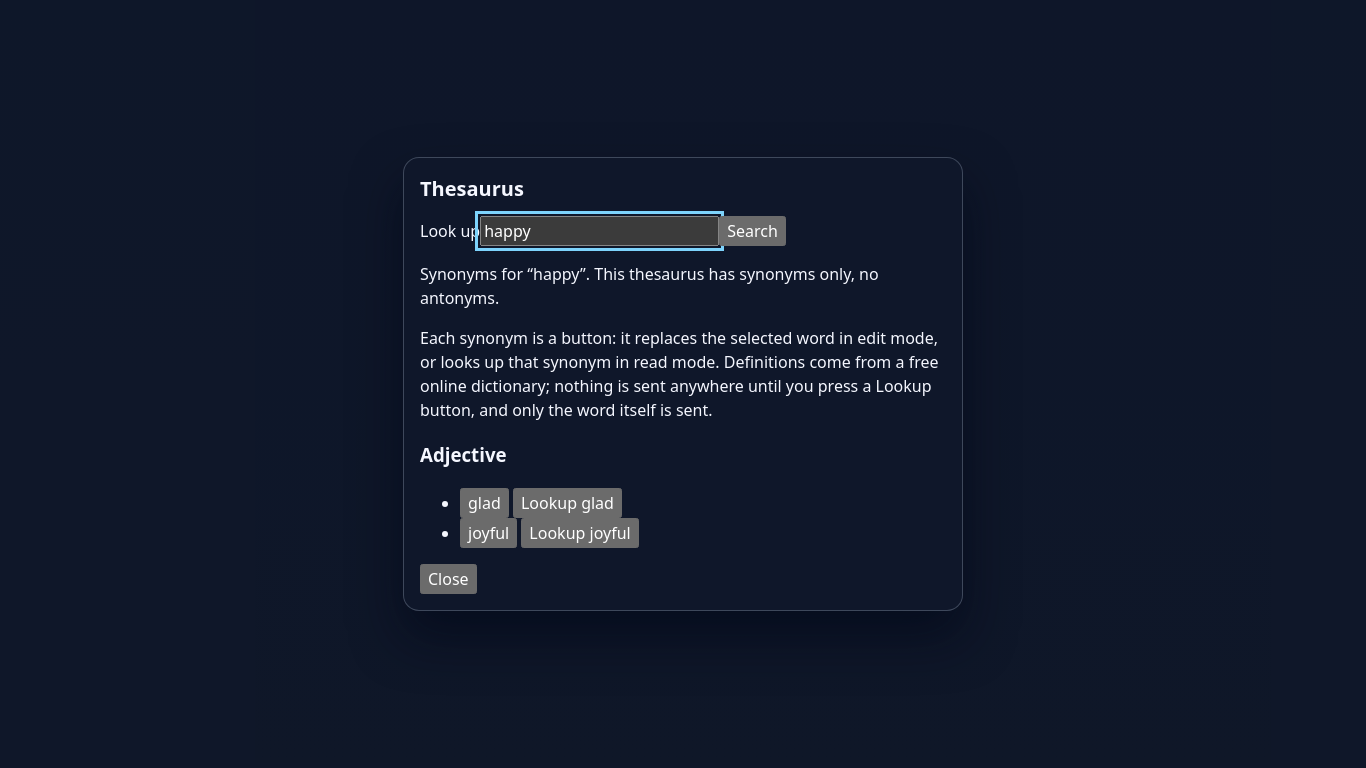
thesaurus dialog › shows definitions from the per-synonym Lookup button
Expected: the button "glad" is shown, [460,488,509,518]
Click the button "Lookup glad".
click(568, 503)  # box [513,488,622,518]
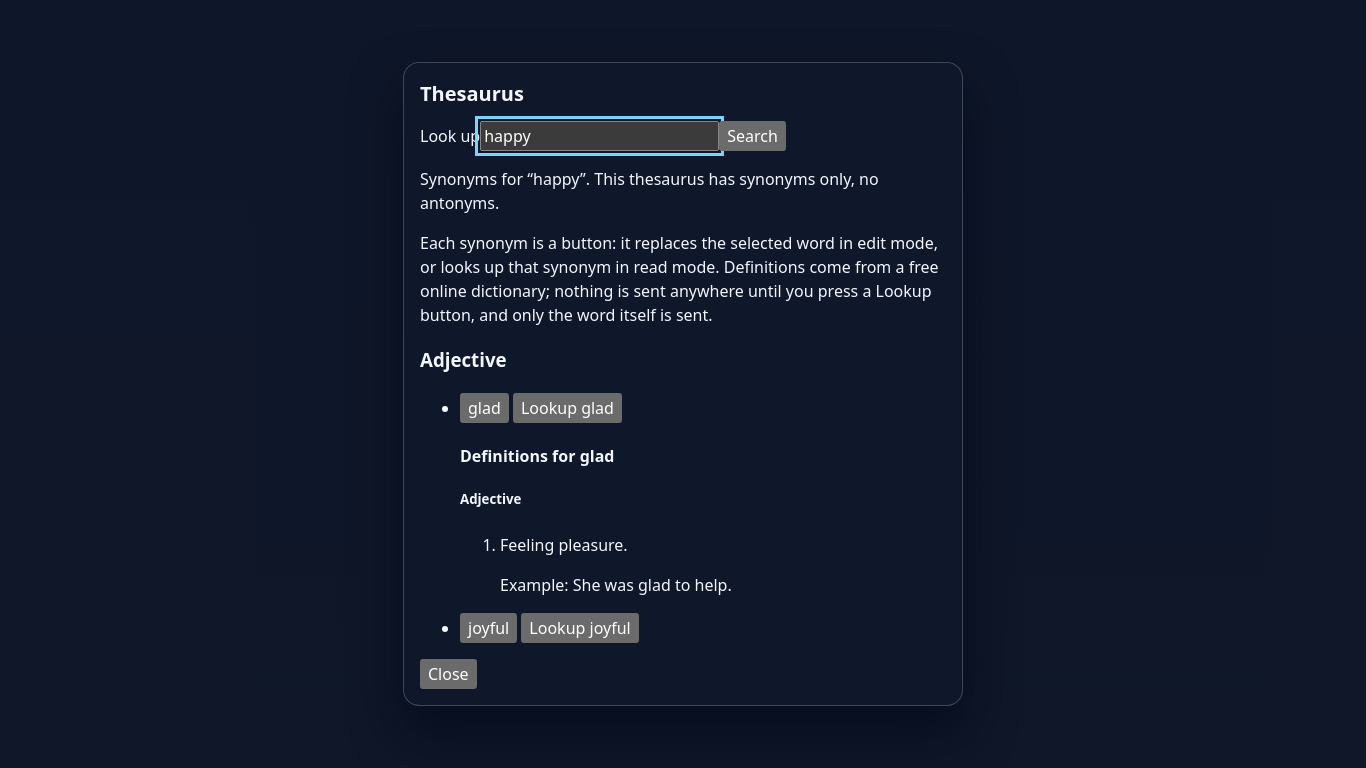
Expected: the heading "Definitions for glad" is shown, [460,445,614,467]
Expected: the list item "Feeling pleasure." is shown, [500,534,628,556]
Expected: the text "Example: She was glad to help." is shown, [500,574,732,596]
